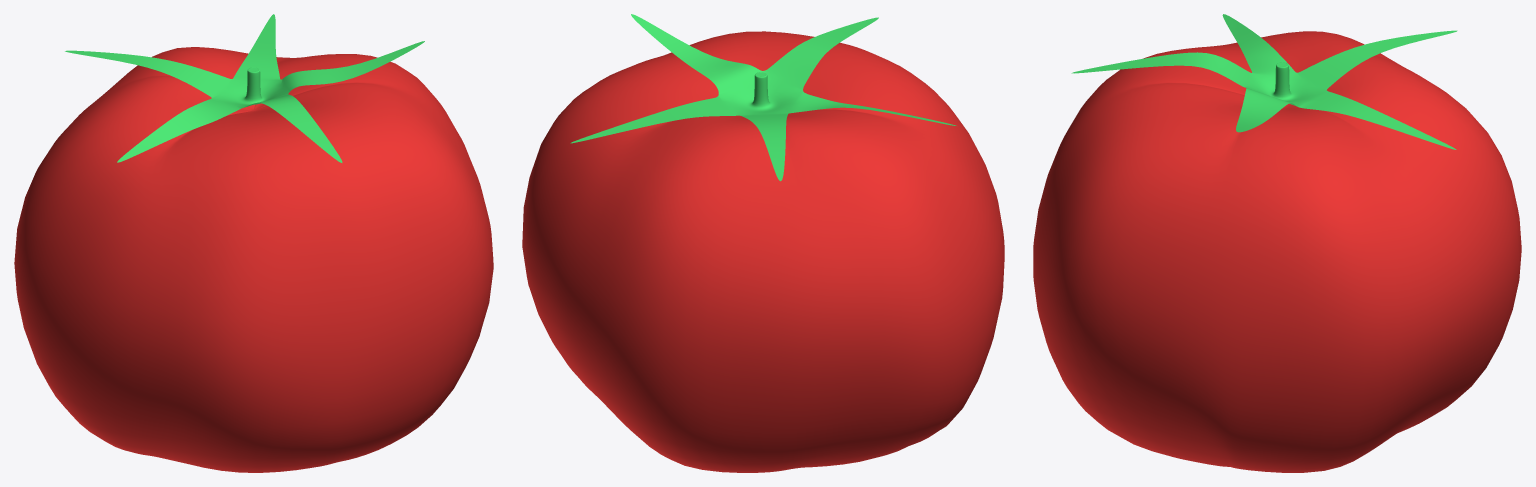
Rendered from tomato1.fbx.
3 renders of one model, left to right at view 1: azimuth 30°, elevation 25°; view 2: azimuth 150°, elevation 25°; view 3: azimuth 270°, elevation 25°, orthographic. The views are drawn at different scales.
Parts seen in each view (by area): view 1: tomato, tomato.leaf; view 2: tomato, tomato.leaf; view 3: tomato, tomato.leaf.
Boxes of the visible parts, x1,y1,x2,y2 form: tomato: (14,47,493,472); tomato.leaf: (65,14,424,162); tomato: (522,31,1004,472); tomato.leaf: (570,14,956,181); tomato: (1033,31,1521,472); tomato.leaf: (1071,14,1457,149).
Size of the model in its own units: 7.6 by 6.09 by 7.49.
